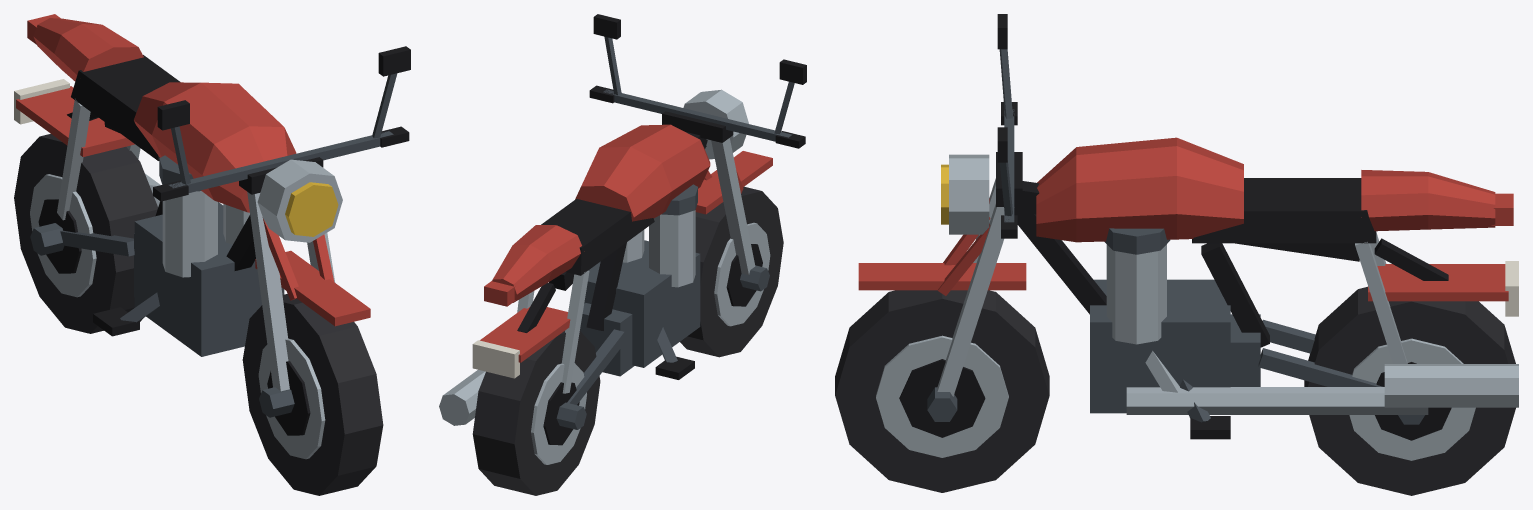
File: GV_Motorcycle_01.glb
3 renders of one model, left to right at view 1: azimuth 30°, elevation 25°; view 2: azimuth 150°, elevation 25°; view 3: azimuth 270°, elevation 25°, orthographic. The views are drawn at different scales.
Parts seen in each view (by area): view 1: GV_Motorcycle_01, Wheel_Front, Wheel_Rear; view 2: GV_Motorcycle_01, Wheel_Rear, Wheel_Front; view 3: GV_Motorcycle_01, Wheel_Front, Wheel_Rear.
Boxes of the visible parts, x1=… form: GV_Motorcycle_01: x1=14, y1=14, x2=410, y2=391; Wheel_Front: x1=242, y1=294, x2=383, y2=495; Wheel_Rear: x1=14, y1=134, x2=157, y2=333; GV_Motorcycle_01: x1=439, y1=14, x2=806, y2=425; Wheel_Rear: x1=472, y1=331, x2=600, y2=495; Wheel_Front: x1=680, y1=186, x2=783, y2=357; GV_Motorcycle_01: x1=858, y1=14, x2=1518, y2=439; Wheel_Front: x1=835, y1=290, x2=1049, y2=492; Wheel_Rear: x1=1304, y1=286, x2=1515, y2=495.
Size of the model in its own units: 0.9 by 1.33 by 2.04.
Materials: 1 (1 with a texture image).
